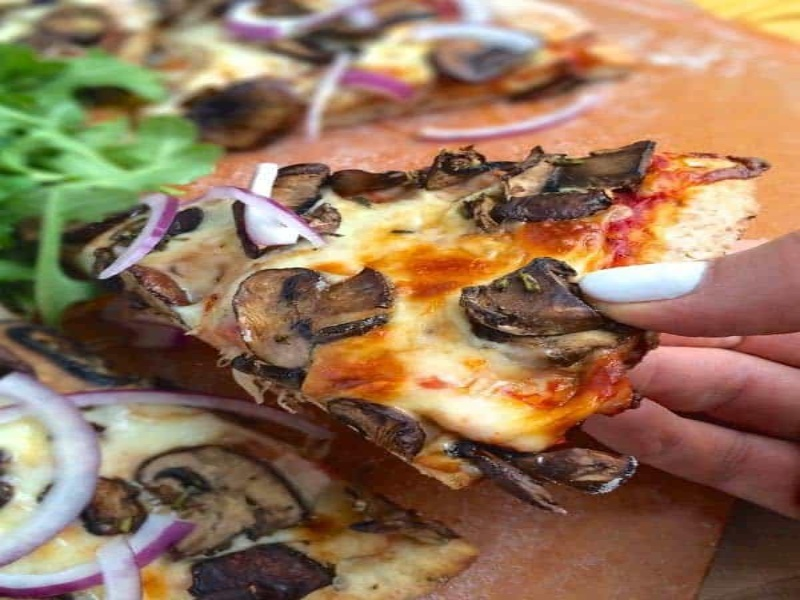champignon: (135, 446, 321, 553), (224, 263, 396, 376)
